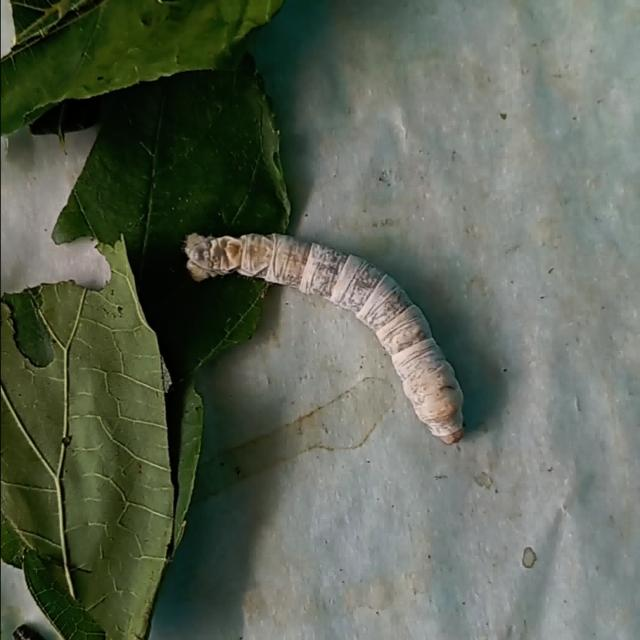Grasserie: (162, 205, 496, 464)
